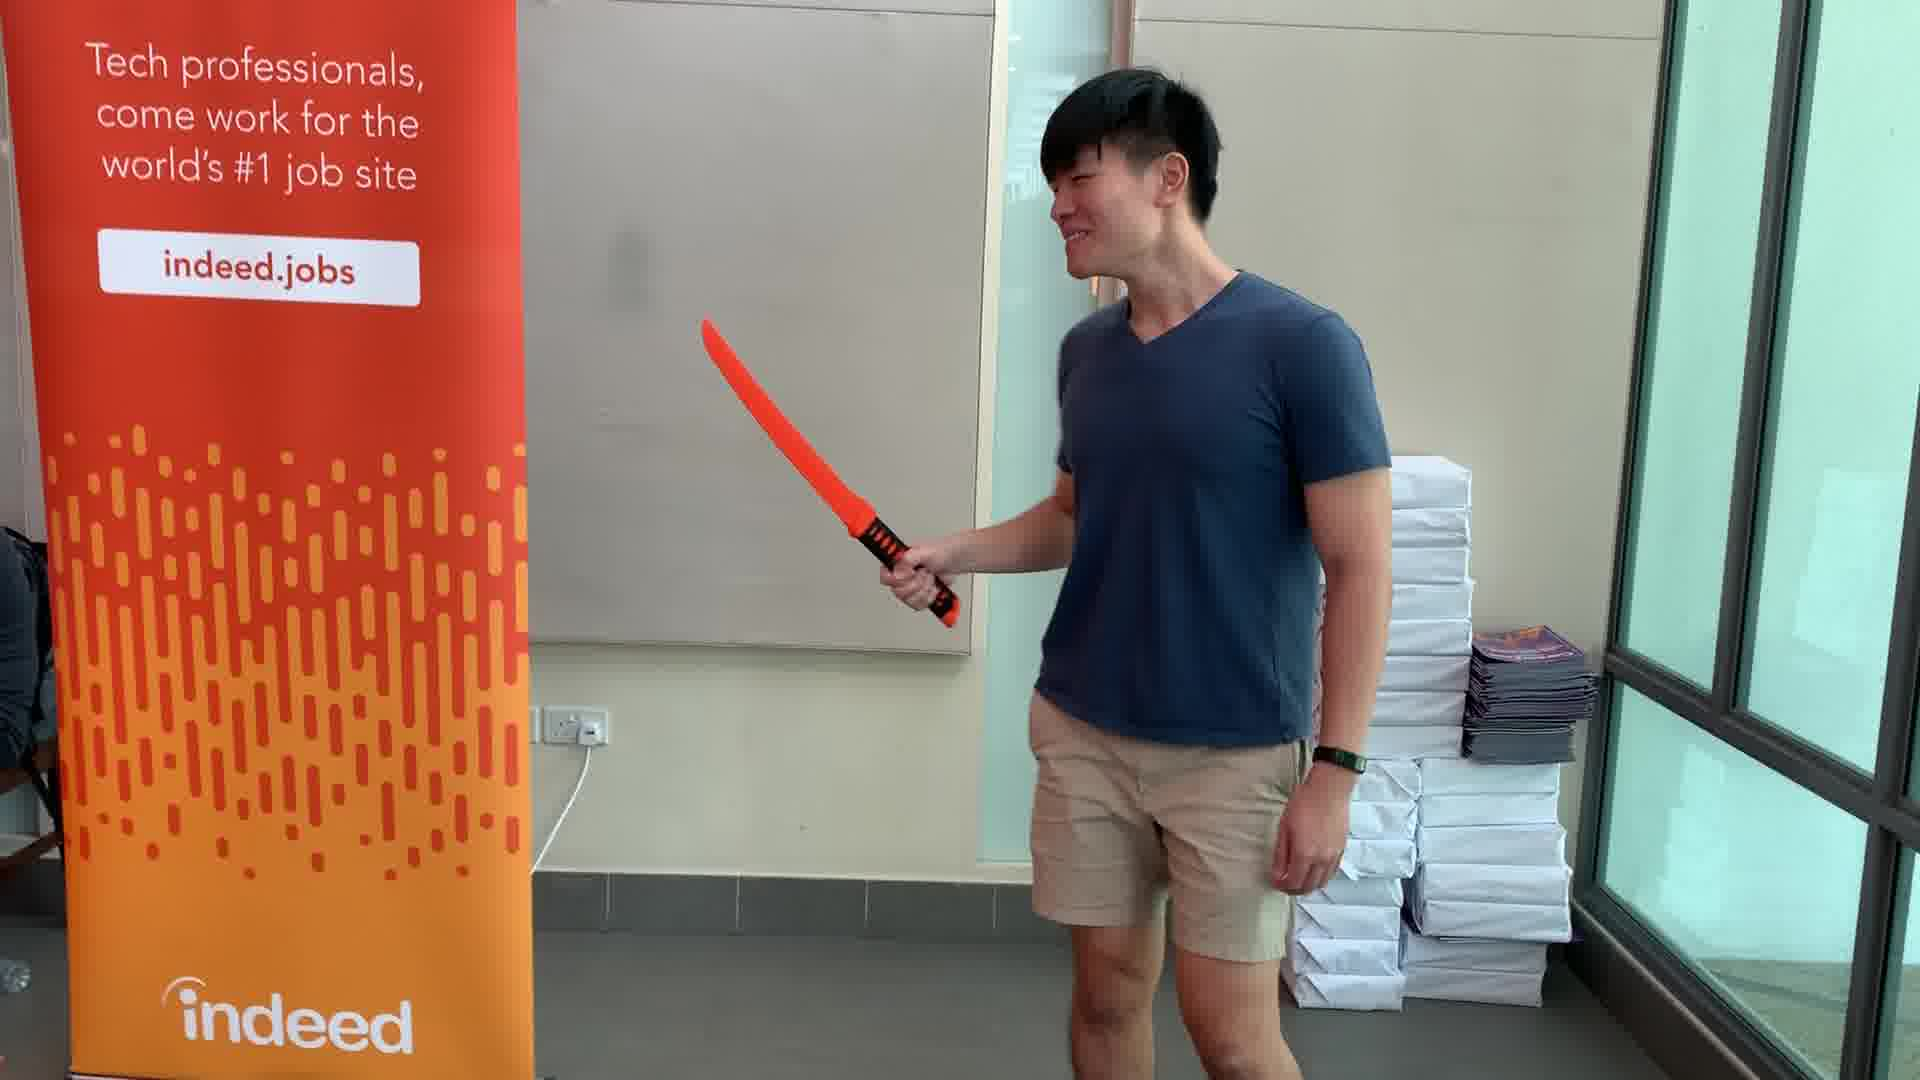knife: (690, 309, 968, 637)
